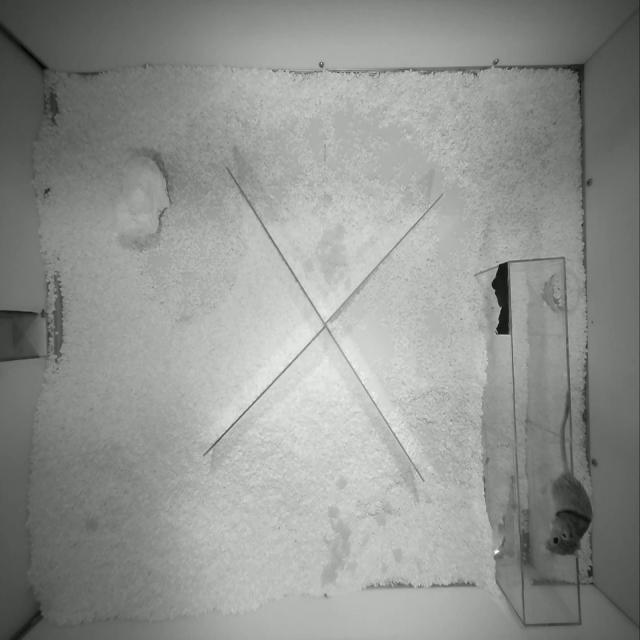adult_front: (542, 386, 593, 555)
